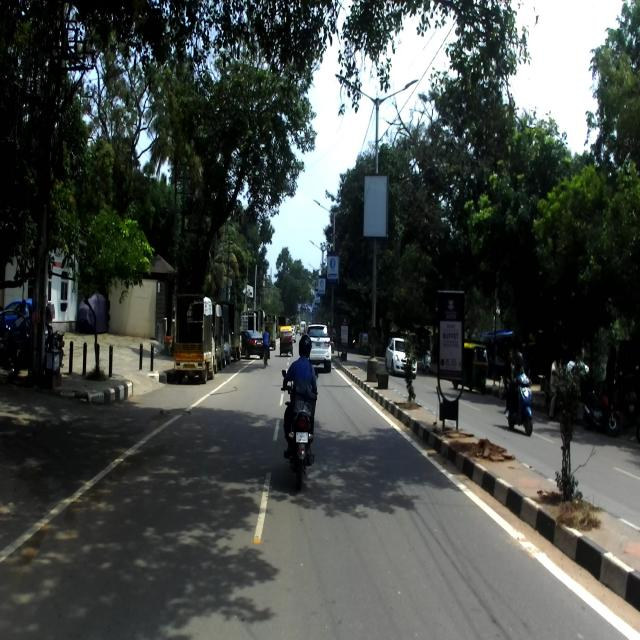autorickshaw: (279, 325, 295, 354)
car: (302, 322, 332, 372), (385, 337, 417, 378)
motorcycle: (280, 369, 319, 485), (582, 384, 620, 438)
scooter: (504, 369, 534, 435)
truck: (174, 290, 218, 382), (206, 296, 226, 376)
